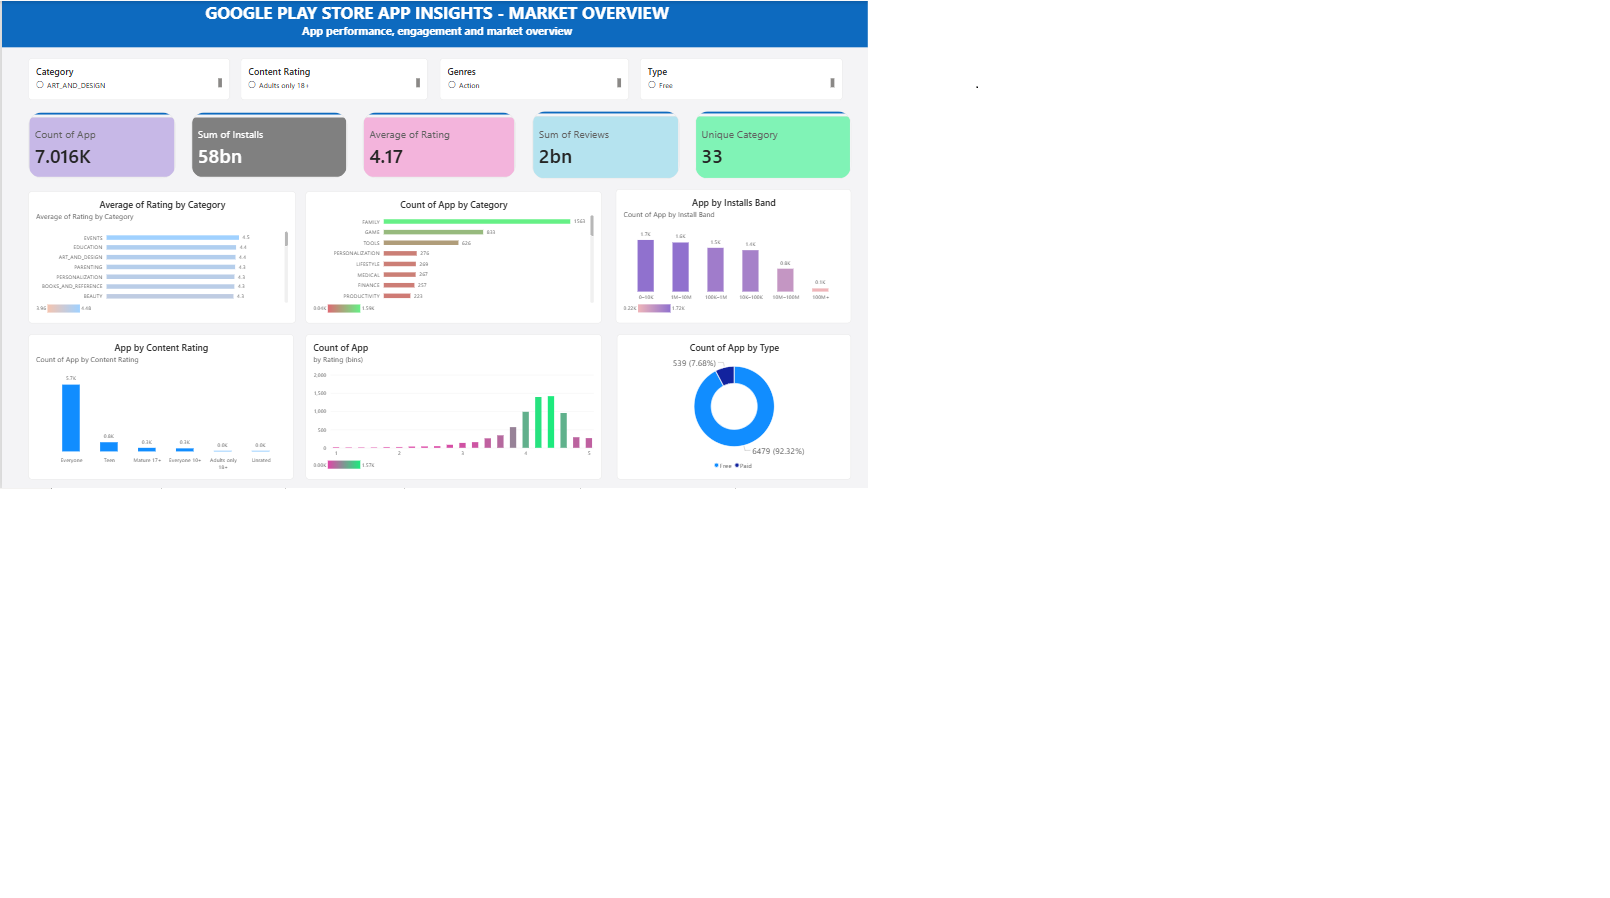

The page's visual inventory and layout, read from the dashboard file:
{"tool":"powerbi","page":{"name":"Basic_Questions","canvas":[1280,720],"ordinal":0},"visuals":[{"type":"cardVisual","fields":{"Data":["Measure_Table.Average_rating"]},"box":[19.5,61.8,266.6,133.3],"z":0},{"type":"cardVisual","fields":{"Data":["Measure_Table.Unique Category"]},"box":[300.8,61.8,271.5,133.3],"z":1},{"type":"clusteredColumnChart","fields":{"Y":["Count(Apps.App)"],"Category":["Apps.Size_band"]},"box":[19.5,222.7,562.5,208.1],"z":2},{"type":"donutChart","fields":{"Category":["Apps.Type"],"Y":["Count(Apps.App)"]},"box":[19.5,462.4,267.3,206.8],"z":3},{"type":"clusteredColumnChart","fields":{"Category":["Apps.App"],"Y":["Count(Apps.Content Rating)"]},"box":[582.1,61.8,624.3,169.1],"z":4},{"type":"tableEx","fields":{"Values":["App Dimension.App","Apps.Installs"]},"box":[597,234.1,362.9,197],"z":5},{"type":"cardVisual","fields":{"Data":["Measure_Table.App_Rated_4+"]},"box":[973.5,234.1,232.2,197],"z":6},{"type":"pieChart","fields":{"Category":["Apps.Type"],"Y":["Avg(Apps.Reviews)"]},"box":[300.4,462.4,280.9,206.8],"z":7},{"type":"tableEx","fields":{"Values":["Apps.Category","Measure_Table.Avg_AppSize"]},"box":[597,462,363,207],"z":8},{"type":"cardVisual","fields":{"Data":["Measure_Table.App_Updated_2018"]},"box":[974,462,232,207],"z":9}]}

Visuals, with their boxes in screenshot pixels (x1, y1, x2, y2), scaled from the page's 1280x720 canvas onto the 1610x898 screenshot:
cardVisual - Measure_Table.Average_rating: 25, 77, 360, 243
cardVisual - Measure_Table.Unique Category: 378, 77, 720, 243
clusteredColumnChart - Count(Apps.App) x Apps.Size_band: 25, 278, 732, 537
donutChart - Apps.Type x Count(Apps.App): 25, 577, 361, 835
clusteredColumnChart - Apps.App x Count(Apps.Content Rating): 732, 77, 1517, 288
tableEx - App Dimension.App x Apps.Installs: 751, 292, 1207, 538
cardVisual - Measure_Table.App_Rated_4+: 1224, 292, 1517, 538
pieChart - Apps.Type x Avg(Apps.Reviews): 378, 577, 731, 835
tableEx - Apps.Category x Measure_Table.Avg_AppSize: 751, 576, 1208, 834
cardVisual - Measure_Table.App_Updated_2018: 1225, 576, 1517, 834
